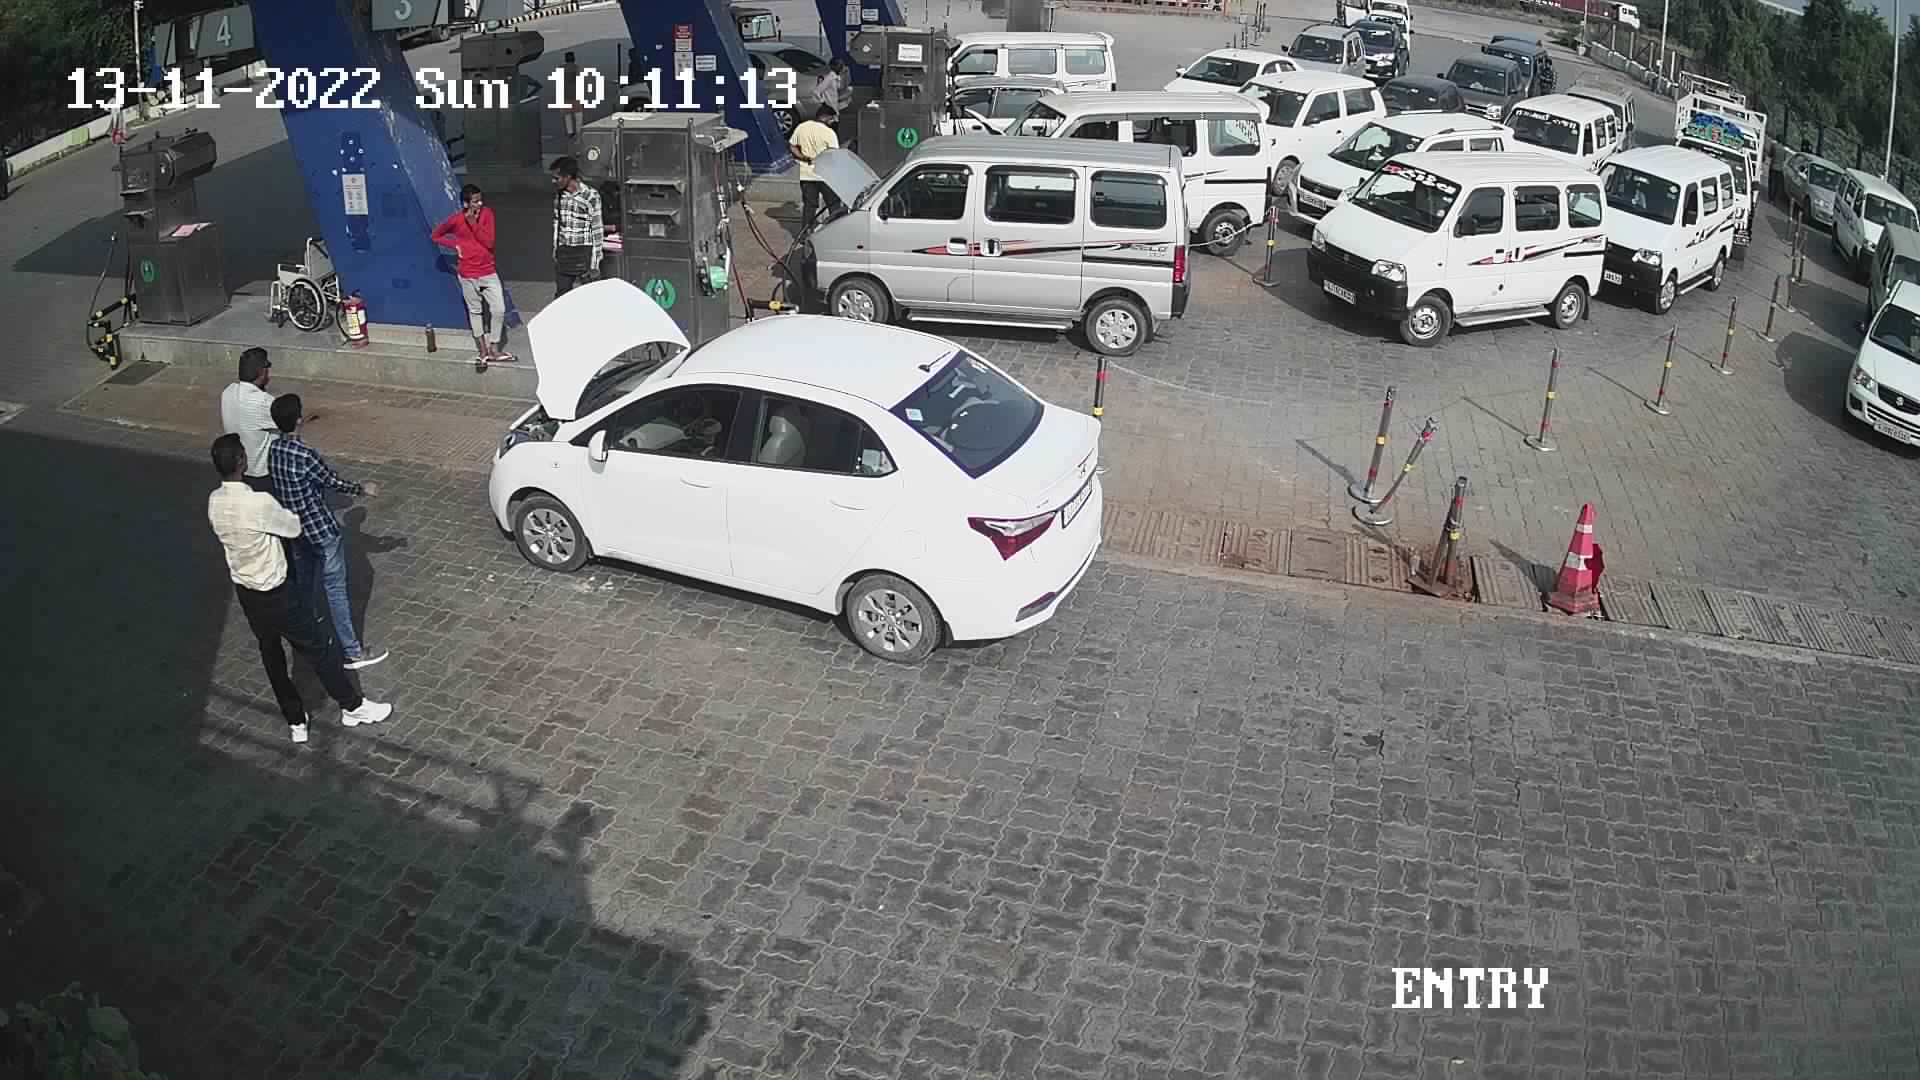Auto: (719, 0, 789, 55)
Car: (481, 266, 1113, 667), (782, 127, 1189, 363), (1302, 140, 1615, 353), (955, 80, 1273, 258), (1280, 104, 1520, 236), (1582, 137, 1745, 313), (1662, 65, 1776, 266), (1228, 65, 1394, 203), (1836, 276, 1917, 476), (942, 26, 1121, 104), (1489, 84, 1625, 185), (736, 33, 843, 142), (1824, 165, 1917, 286), (938, 69, 1075, 149), (1156, 40, 1300, 102), (1851, 214, 1917, 347), (1559, 62, 1644, 161), (1431, 46, 1530, 131), (1767, 138, 1851, 237), (1278, 17, 1375, 88), (1338, 0, 1422, 83), (1476, 26, 1559, 104), (1361, 66, 1476, 121)
